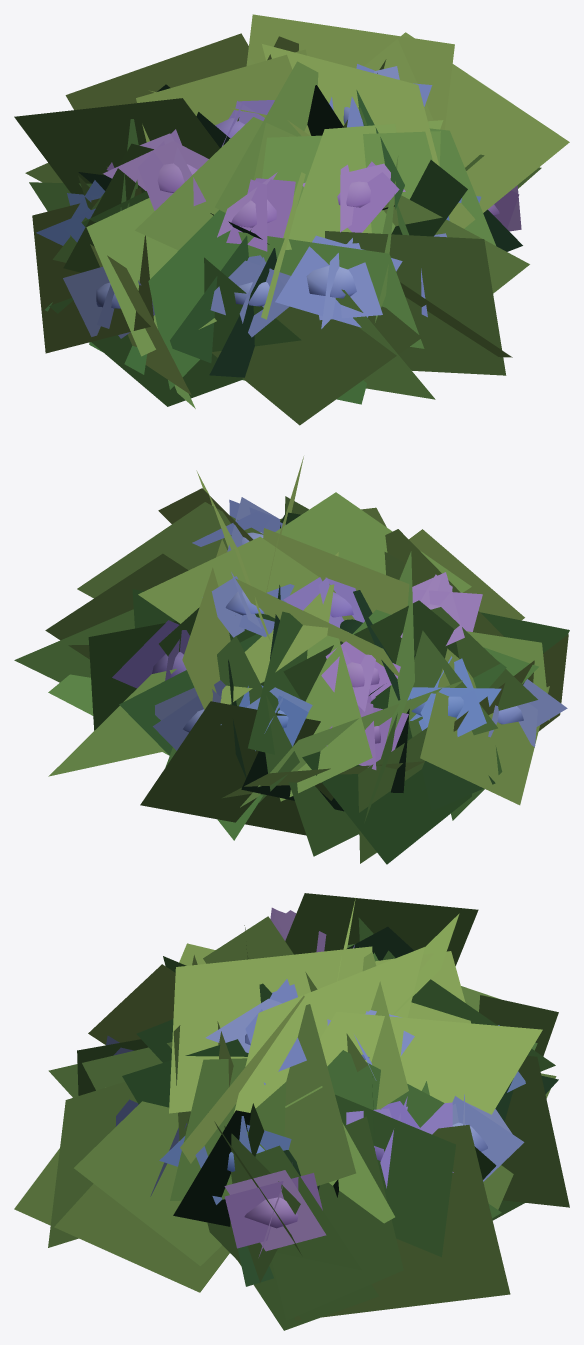
The model's file is Hydrangea.fbx.
3 views of the same model, one above another, from view 1: azimuth 30°, elevation 25°; view 2: azimuth 150°, elevation 25°; view 3: azimuth 270°, elevation 25° (orthographic). The views are drawn at different scales.
Parts seen in each view (by area): view 1: Hydrangea; view 2: Hydrangea; view 3: Hydrangea.
Part boxes in pixels (left/top/right/bottom): Hydrangea: left=14, top=14, right=569, bottom=425; Hydrangea: left=14, top=456, right=569, bottom=864; Hydrangea: left=14, top=893, right=569, bottom=1330.
Size of the model in its own units: 1.98 by 1.23 by 1.79.
